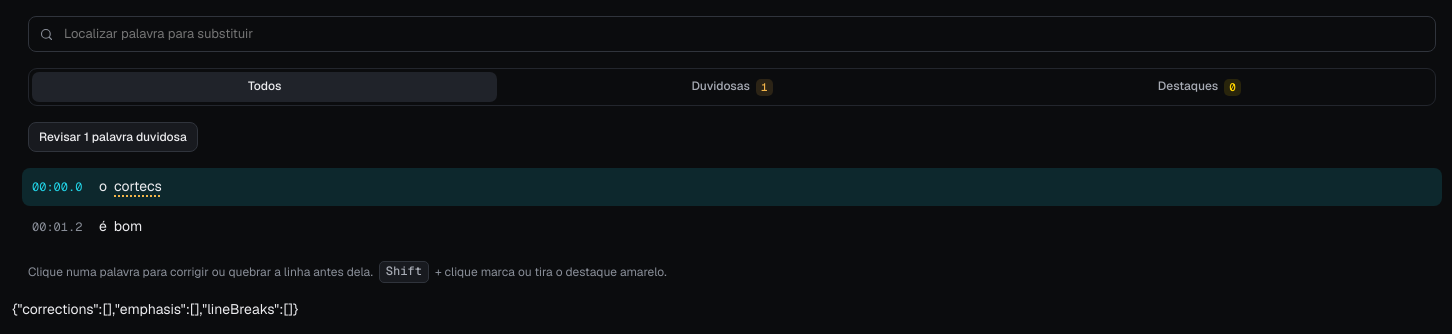
Scenario: the filter keeps only blocks with doubtful or highlighted words, with counts
The width and height of the screenshot is (1452, 334).
Expected: the number of elements with class "blk" is 2, [22,168,1442,206]; [32,216,143,237]
Click the radio button labelled "Duvidosas 1".
click(732, 87)  # box [499,72,965,102]
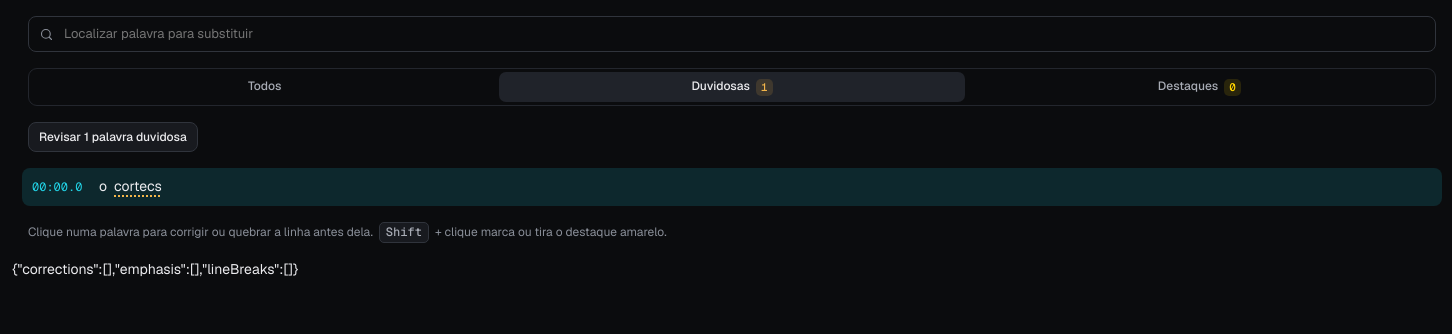
Expected: the number of elements with class "blk" is 1, [22,168,1442,206]
Click the radio button labelled "Destaques 0".
click(1199, 87)  # box [967,72,1432,102]
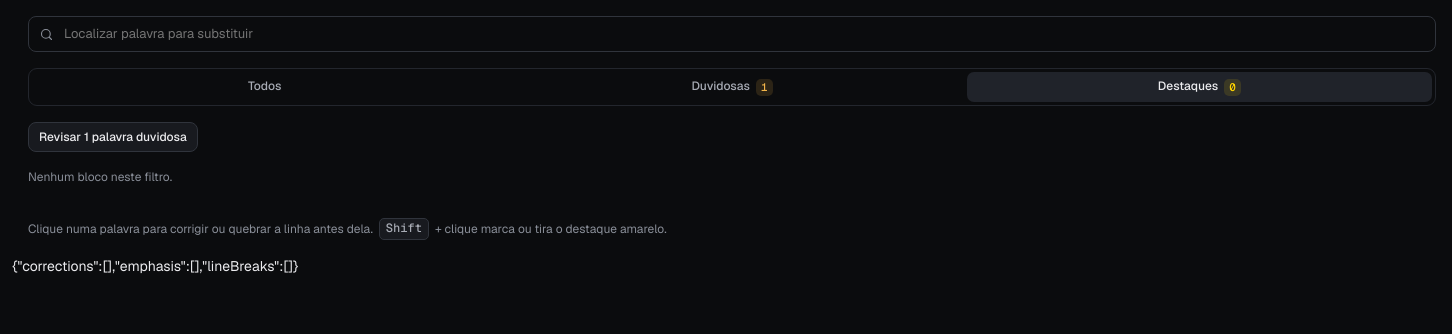
Expected: the text "Nenhum bloco neste filtro." is shown, [28,169,172,185]
